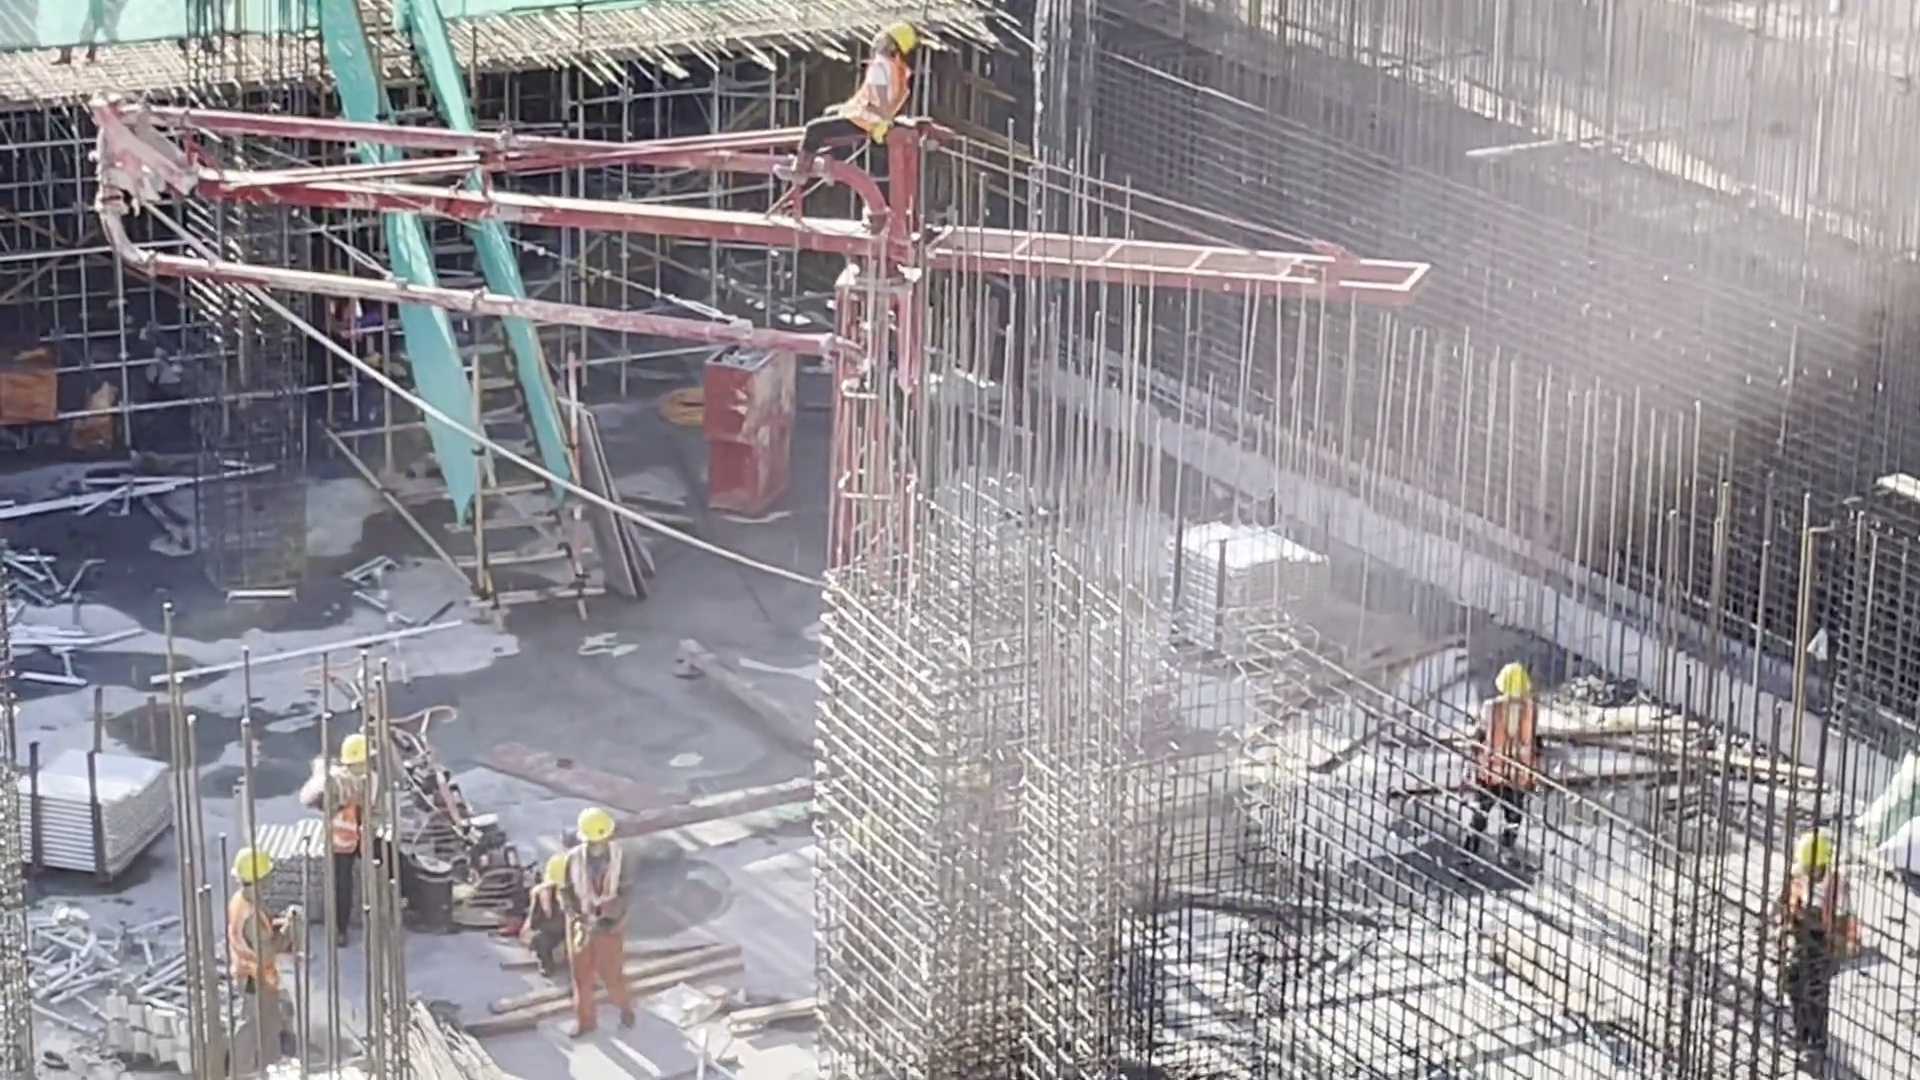helmet: (230, 849, 299, 885), (337, 735, 391, 768), (573, 805, 619, 843), (885, 13, 928, 48), (1803, 832, 1844, 865), (1501, 661, 1534, 698)
person: (775, 20, 903, 202), (1771, 827, 1859, 1076), (547, 801, 633, 1032), (215, 850, 306, 1035), (306, 722, 392, 898), (1486, 642, 1533, 822), (522, 856, 584, 953)
scaffold: (42, 936, 264, 1055), (10, 733, 199, 866), (1167, 511, 1315, 662), (240, 812, 381, 881)
vest: (556, 846, 649, 927), (224, 892, 293, 981), (325, 774, 391, 864), (1779, 873, 1857, 949), (847, 56, 908, 141), (1484, 703, 1543, 779)
